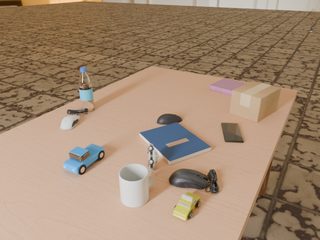book: (139, 122, 211, 165), (209, 79, 246, 95)
bottle: (79, 67, 94, 111)
box: (230, 81, 281, 122)
cup: (119, 164, 155, 207)
mouse: (169, 168, 219, 193), (60, 114, 80, 130), (157, 114, 182, 125)
phone: (221, 123, 244, 143)
toy_car: (63, 144, 105, 175), (173, 192, 200, 221), (148, 143, 158, 170)
